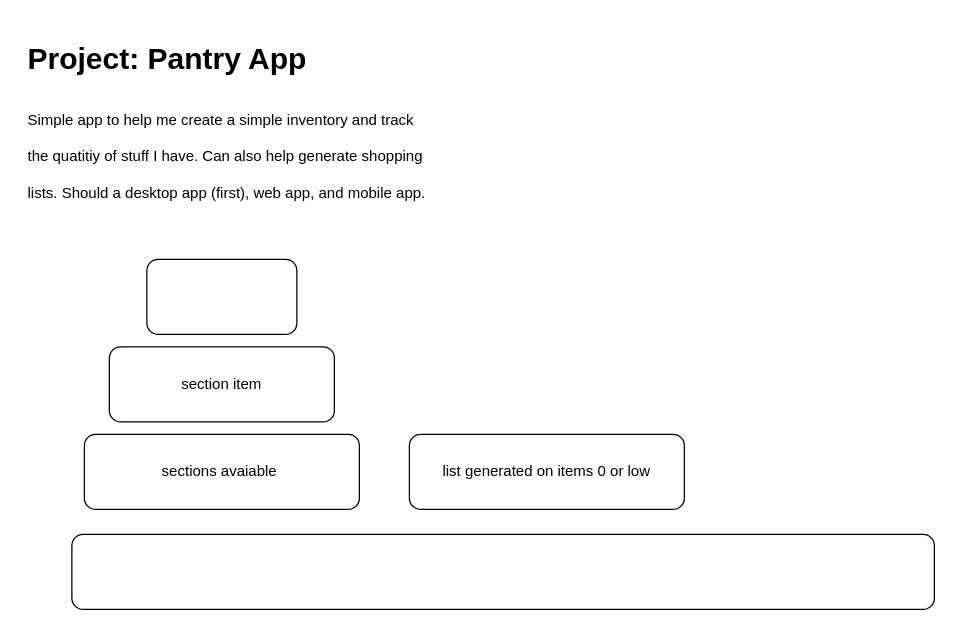
Some shapes in this 956 by 631 pixel diagram are drawn without their labels. The centre of each missing label's shape, as x and y in pixels:
gui window: [502,571]
item quantity 0-... or low: [221,296]
